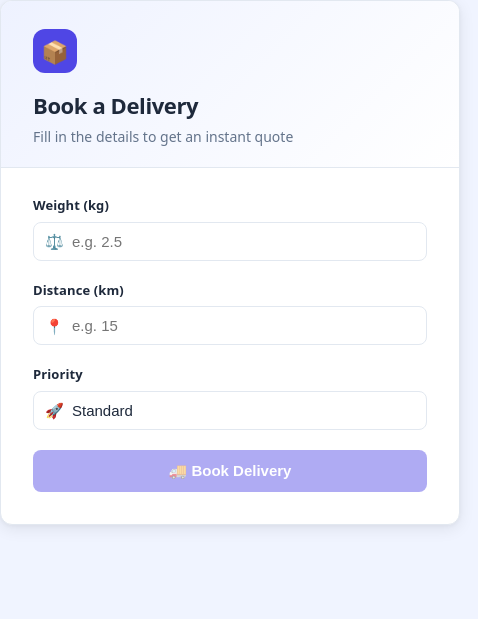
Test case: BookDelivery › shows price estimate when weight and distance are filled
Type "5" into the number field labelled "Weight (kg)" at [230, 241], box [33,222,427,260]
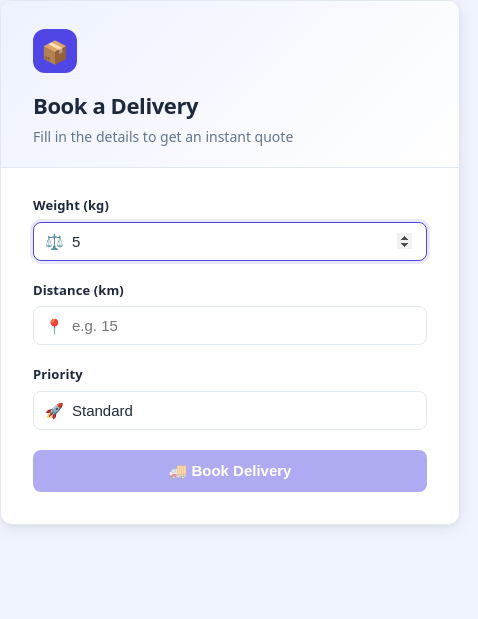
Type "10" into the number field labelled "Distance (km)" at [230, 326], box [33,306,427,345]
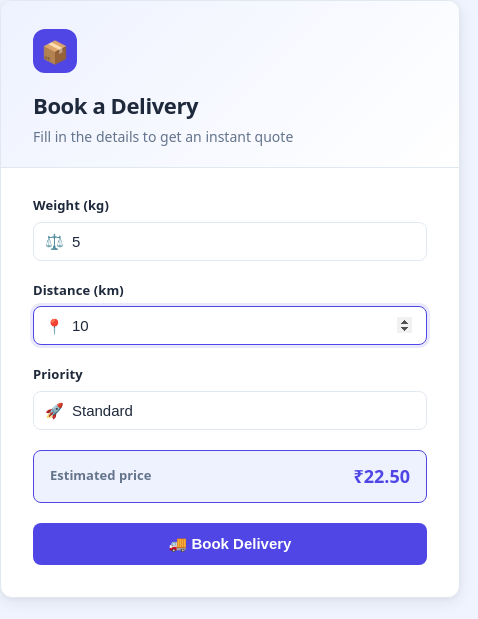
Result: the text with test id "estimate-value" reads "₹22.50" at [353,462,410,490]
